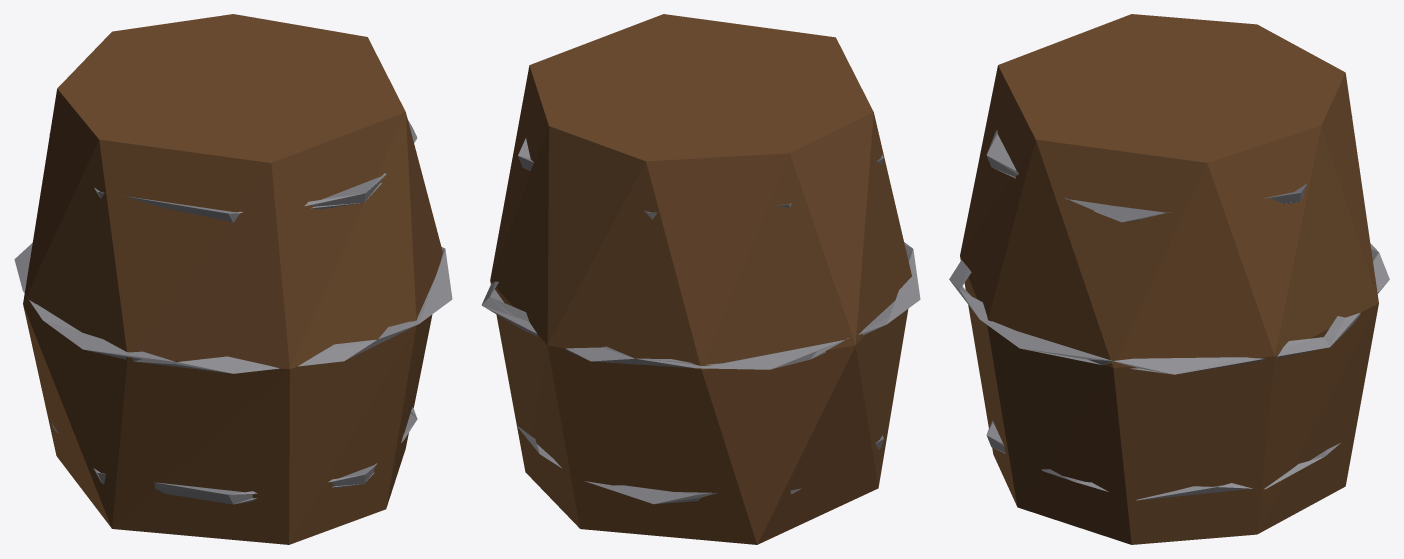
Rendered from powder_keg_lod1.glb.
3 renders of one model, left to right at view 1: azimuth 30°, elevation 25°; view 2: azimuth 150°, elevation 25°; view 3: azimuth 270°, elevation 25°, orthographic.
Parts seen in each view (by area): view 1: m; view 2: m; view 3: m.
Part boxes in pixels (x1,y1,x2,y2): m: (14,14,452,544); m: (481,14,920,544); m: (949,14,1389,544).
Size of the model in its own units: 0.616 by 0.6006 by 0.628.
Materials: 2 (1 with a texture image).
